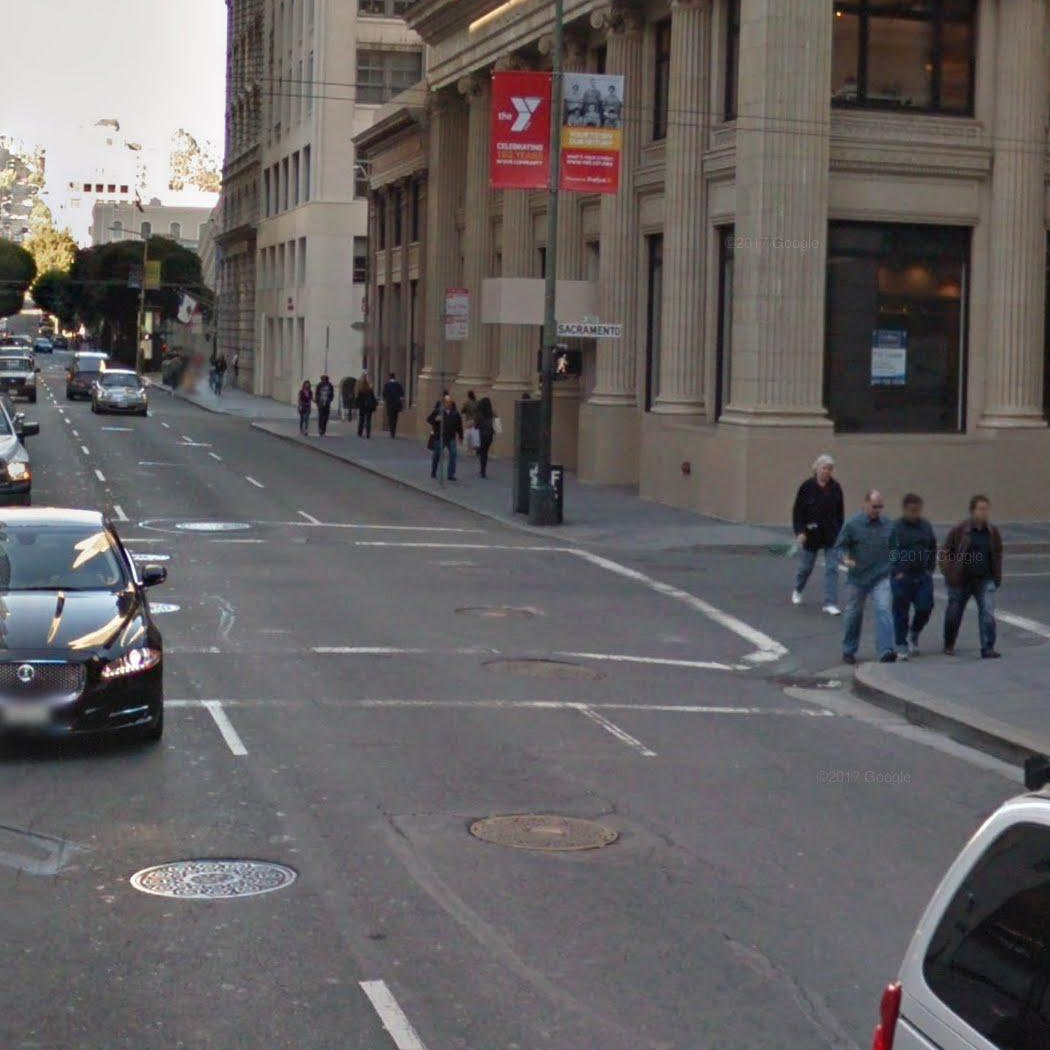No Parking: (444, 316, 469, 341)
